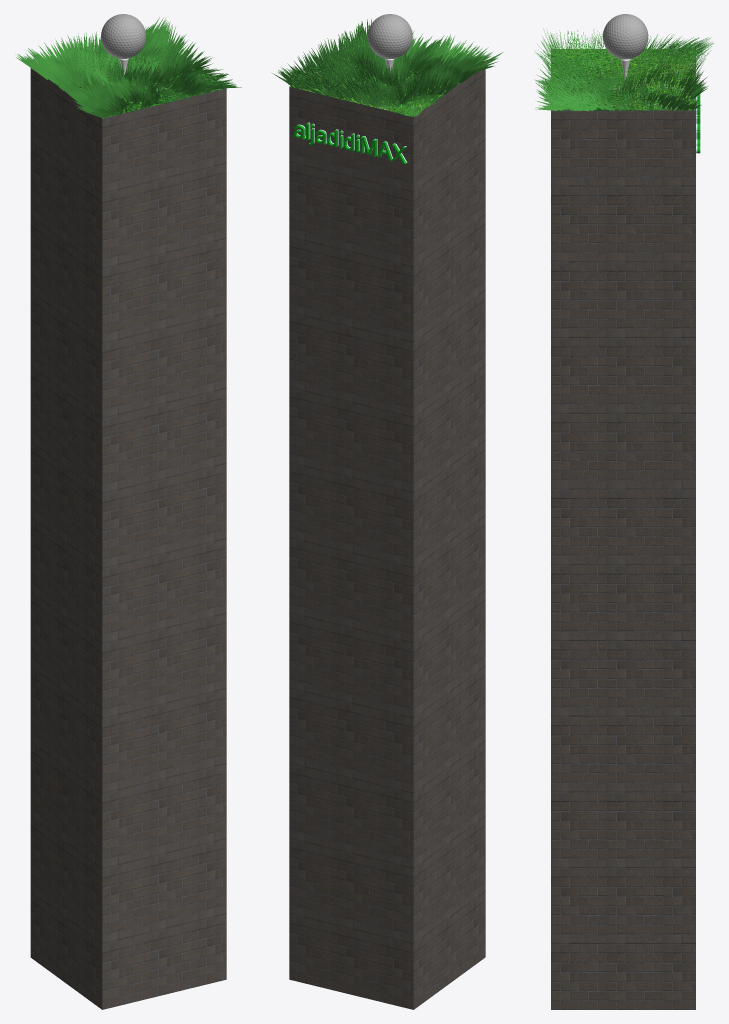
The model's file is ball.glb.
The picture shows the model from 3 angles, left to right: view 1: azimuth 30°, elevation 25°; view 2: azimuth 150°, elevation 25°; view 3: azimuth 270°, elevation 25°; orthographic projection.
Parts seen in each view (by area): view 1: Box001, Object001_grass_mat_0, GeoSphere001; view 2: Box001, Object001_grass_mat_0, GeoSphere001, text; view 3: Box001, Object001_grass_mat_0, GeoSphere001.
Part boxes in pixels (x1,y1,x2,y2): Box001: [30, 50, 226, 1009]; Object001_grass_mat_0: [16, 17, 241, 117]; GeoSphere001: [101, 14, 145, 58]; Box001: [289, 37, 485, 1009]; Object001_grass_mat_0: [271, 19, 503, 116]; GeoSphere001: [367, 14, 412, 58]; text: [293, 122, 407, 163]; Box001: [551, 49, 695, 1009]; Object001_grass_mat_0: [534, 28, 713, 111]; GeoSphere001: [603, 14, 648, 59].
Size of what is drawn, in the model's own units: 27.52 by 159 by 27.1.
Materials: 7 (2 with a texture image).
